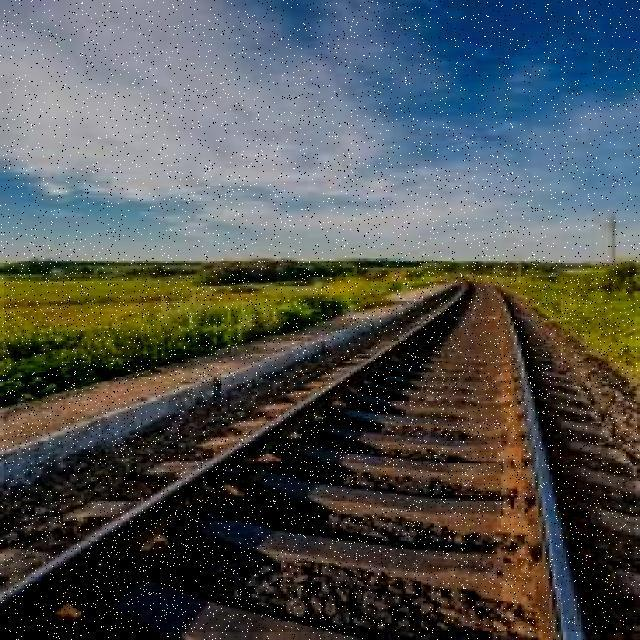rail: (6, 263, 636, 633)
